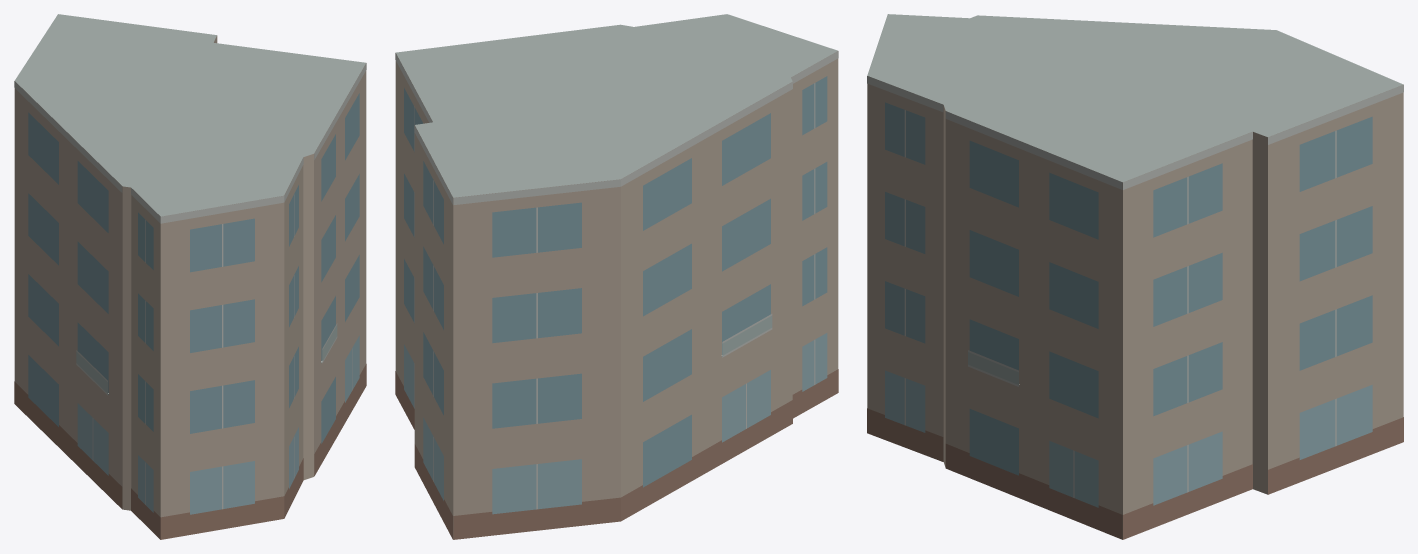
File: survey-upis-32684139.glb
3 views of the same model, side by side, from view 1: azimuth 30°, elevation 25°; view 2: azimuth 150°, elevation 25°; view 3: azimuth 270°, elevation 25° (orthographic). The views are drawn at different scales.
Visible parts, largest first — view 1: survey-upis-32684139.tmp; view 2: survey-upis-32684139.tmp; view 3: survey-upis-32684139.tmp.
Part boxes in pixels (left/top/right/bottom): survey-upis-32684139.tmp: left=14, top=14, right=366, bottom=539; survey-upis-32684139.tmp: left=395, top=14, right=838, bottom=539; survey-upis-32684139.tmp: left=867, top=14, right=1403, bottom=539.
Bounding box in the file's own units: 11.27 × 11.15 × 15.18.
